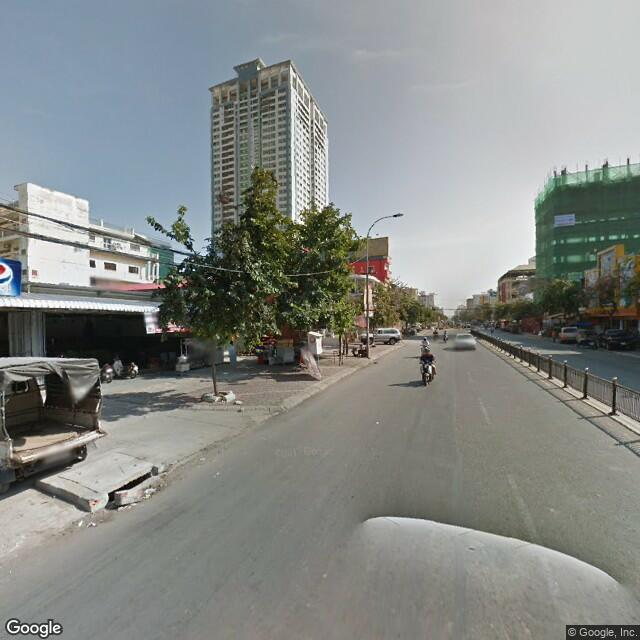litter: (72, 512, 102, 534), (145, 486, 157, 503)
